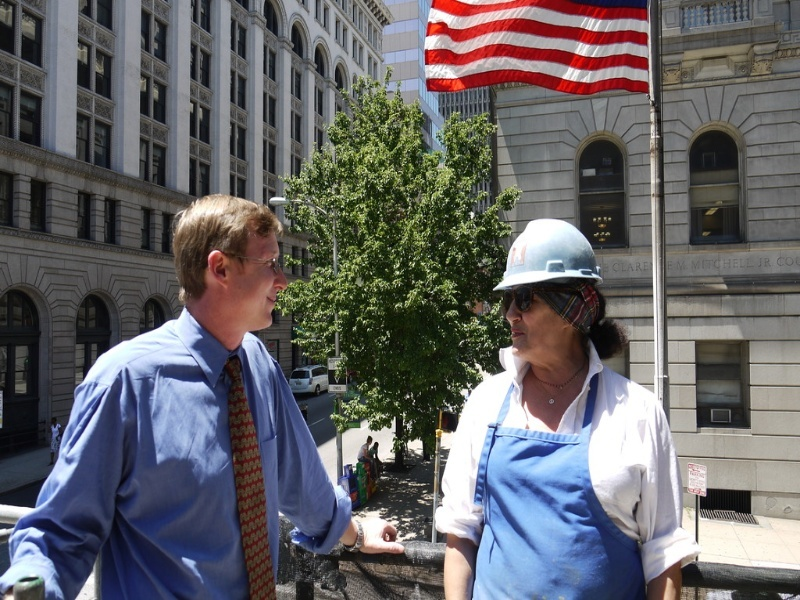baret: (493, 217, 605, 303)
